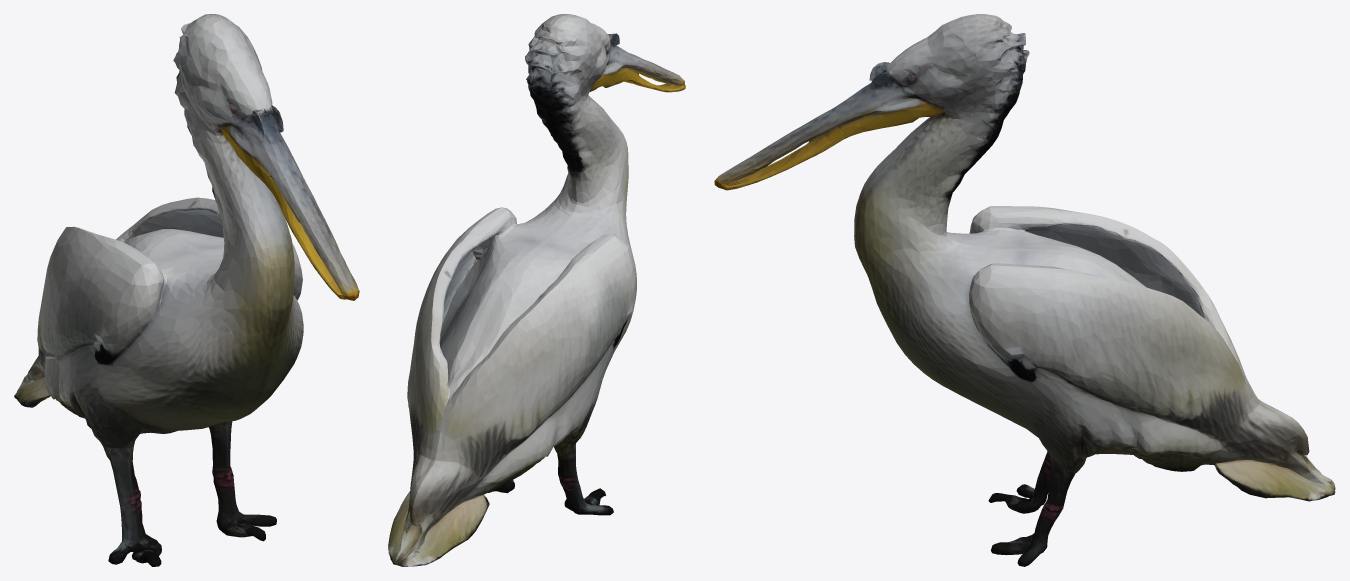
The model's file is pelikan.glb.
3 views of the same model, side by side, from view 1: azimuth 30°, elevation 25°; view 2: azimuth 150°, elevation 25°; view 3: azimuth 270°, elevation 25° (orthographic). The views are drawn at different scales.
Size of the model in its own units: 35.21 by 91.17 by 99.81.
1 material, 1 textured.
